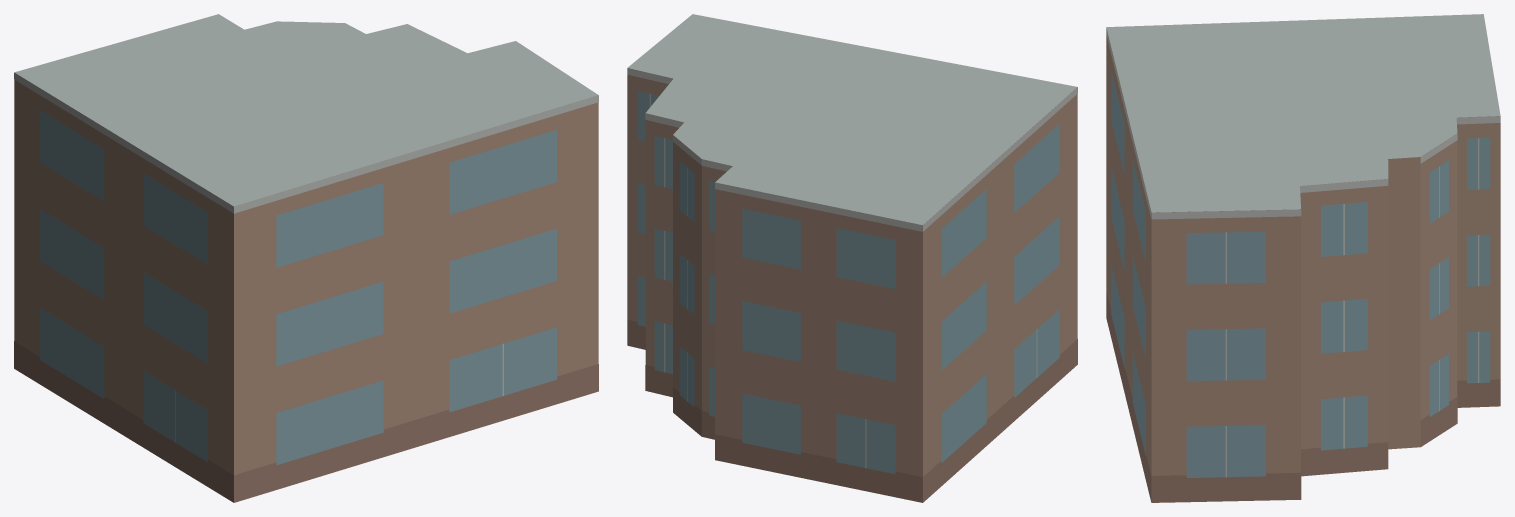
Rendered from survey-upis-32641273.glb.
3 views of the same model, side by side, from view 1: azimuth 30°, elevation 25°; view 2: azimuth 150°, elevation 25°; view 3: azimuth 270°, elevation 25° (orthographic). The views are drawn at different scales.
Visible parts, largest first — view 1: survey-upis-32641273.tmp; view 2: survey-upis-32641273.tmp; view 3: survey-upis-32641273.tmp.
Boxes of the visible parts, left/top/right/bottom form: survey-upis-32641273.tmp: left=14, top=14, right=598, bottom=502; survey-upis-32641273.tmp: left=627, top=14, right=1077, bottom=502; survey-upis-32641273.tmp: left=1106, top=14, right=1500, bottom=502.
Bounding box in the file's own units: 14.97 × 10.2 × 12.57.
